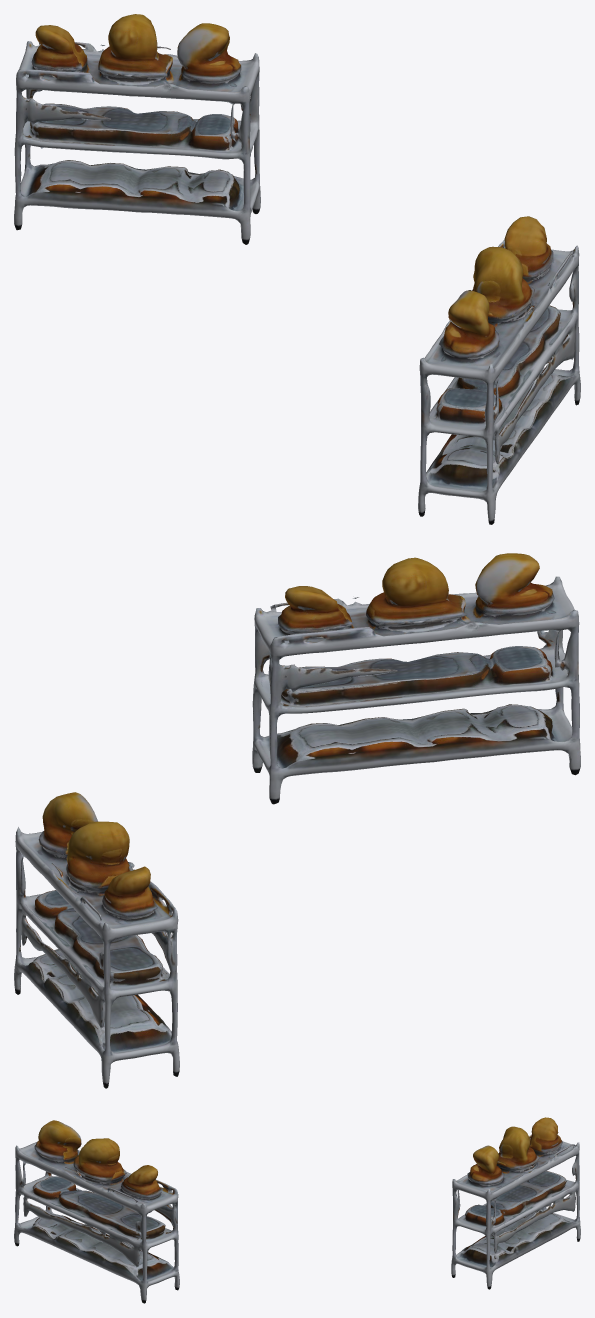
Rendered from Repisa1.obj.
3 renders of one model, top to bottom at view 1: azimuth 30°, elevation 25°; view 2: azimuth 150°, elevation 25°; view 3: azimuth 270°, elevation 25°, orthographic. The views are drawn at different scales.
Parts seen in each view (by area): view 1: Repisa1; view 2: Repisa1; view 3: Repisa1.
Boxes of the visible parts, x1,y1,x2,y2 form: Repisa1: (14,14,580,524); Repisa1: (14,553,580,1088); Repisa1: (14,1117,580,1303).
Bounding box in the file's own units: 8.49 × 6.76 × 26.89.
Materials: 1 (1 with a texture image).
